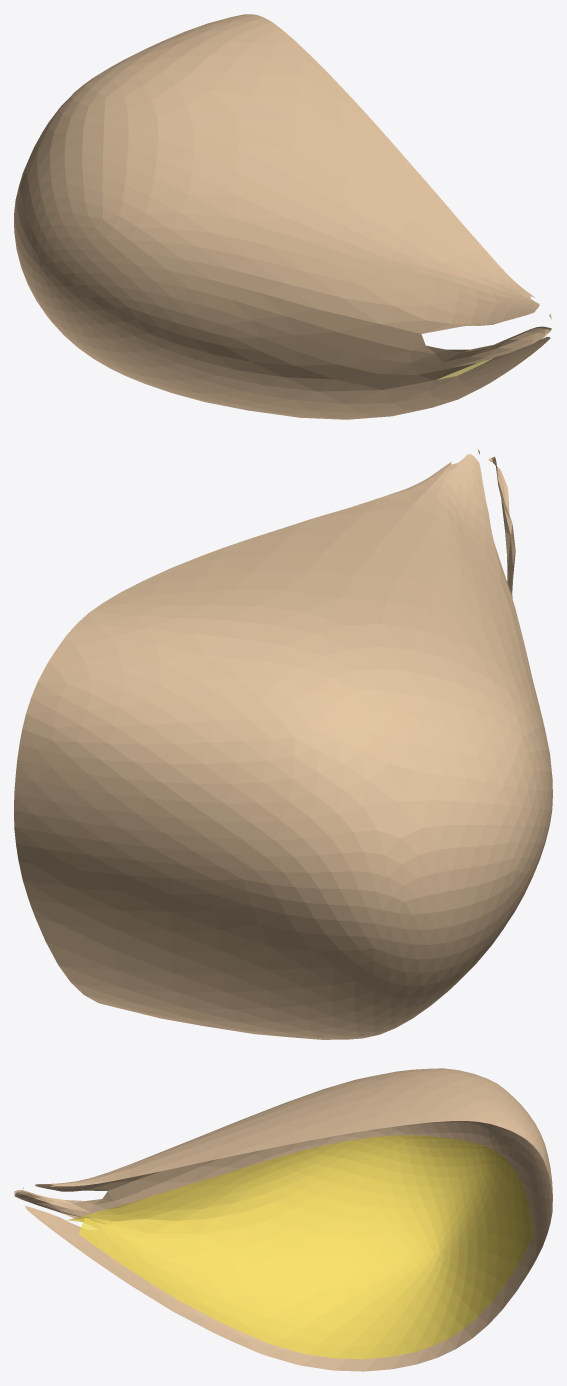
File: vescica_interno.glb
3 renders of one model, top to bottom at view 1: azimuth 30°, elevation 25°; view 2: azimuth 150°, elevation 25°; view 3: azimuth 270°, elevation 25°, orthographic. The views are drawn at different scales.
Visible parts, largest first — view 1: urinary bladder; view 2: urinary bladder; view 3: urinary bladder, urine.
Part boxes in pixels (x1=…): urinary bladder: x1=14, y1=14, x2=551, y2=419; urinary bladder: x1=14, y1=449, x2=552, y2=1039; urinary bladder: x1=14, y1=1068, x2=552, y2=1371; urine: x1=67, y1=1135, x2=533, y2=1359.
Size of the model in its own units: 32.88 by 36.93 by 71.54.
